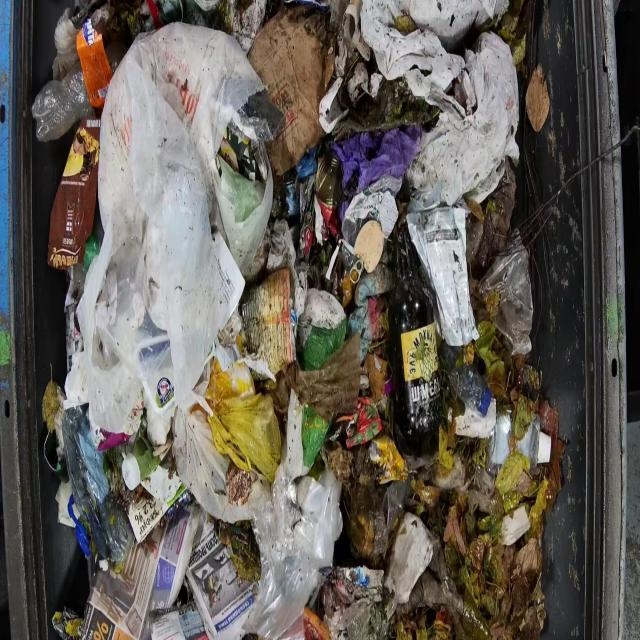bottles: (387, 216, 443, 459)
other-trash: (35, 0, 565, 638)
